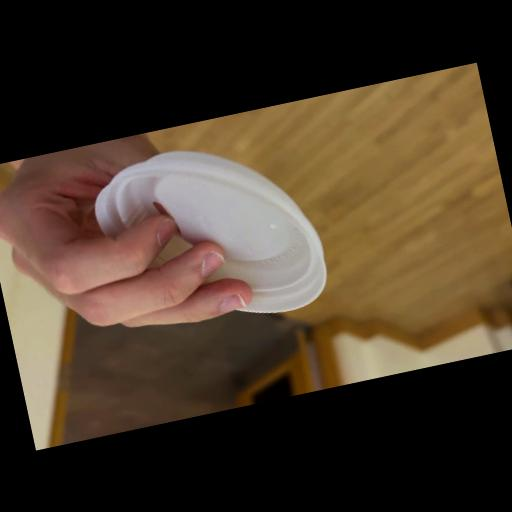lp_cup_lids: (84, 123, 336, 349)
